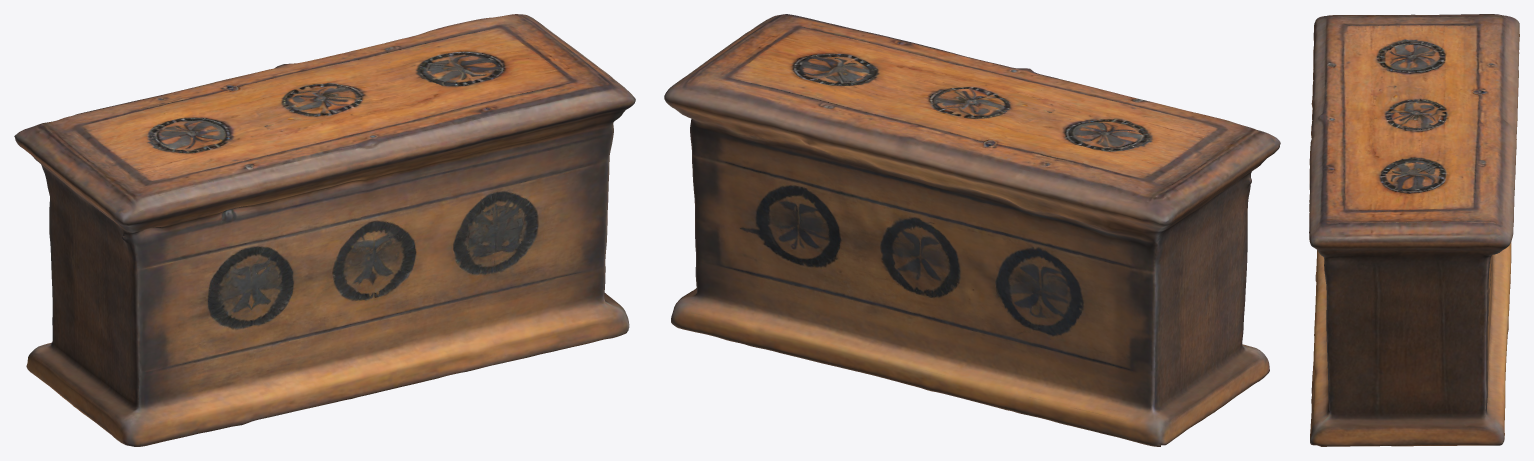
File: Antique_Wooden_Chest_1125105107.glb
3 views of the same model, side by side, from view 1: azimuth 30°, elevation 25°; view 2: azimuth 150°, elevation 25°; view 3: azimuth 270°, elevation 25° (orthographic). The views are drawn at different scales.
Size of the model in its own units: 1.99 by 0.9365 by 0.791.
Materials: 1 (1 with a texture image).
